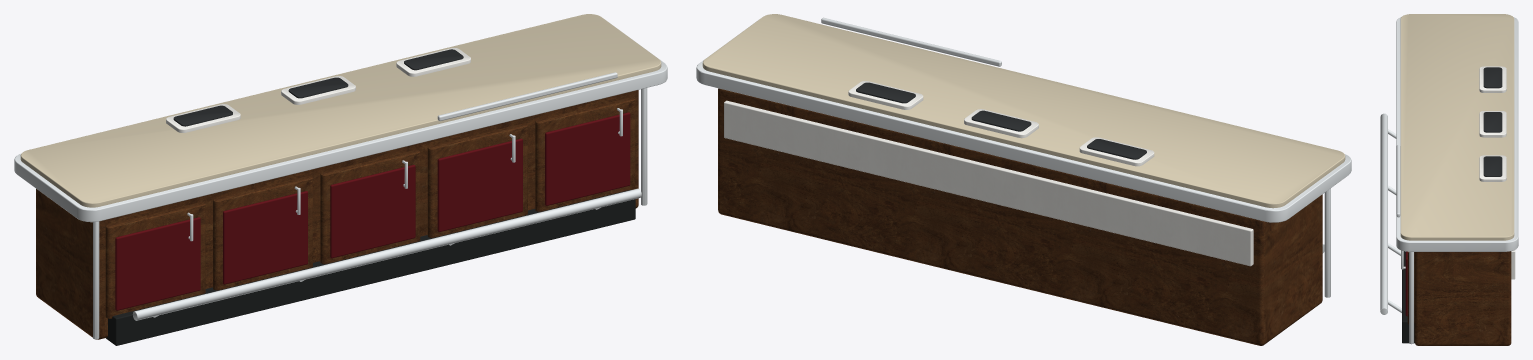
The model's file is diner_service_counter.glb.
3 views of the same model, side by side, from view 1: azimuth 30°, elevation 25°; view 2: azimuth 150°, elevation 25°; view 3: azimuth 270°, elevation 25° (orthographic). The views are drawn at different scales.
Parts seen in each view (by area): view 1: diner_service_counter_ss_cream_formica_pbr, diner_service_counter_ss_dark_red_vinyl_pbr, diner_service_counter_ss_period_wood_laminate_pbr, diner_service_counter_ss_polished_chrome, diner_service_counter_ss_black_rubber, diner_service_counter_ss_stainless_pbr, diner_service_counter_ss_control_black; view 2: diner_service_counter_ss_period_wood_laminate_pbr, diner_service_counter_ss_cream_formica_pbr, diner_service_counter_ss_stainless_pbr, diner_service_counter_ss_polished_chrome, diner_service_counter_ss_control_black; view 3: diner_service_counter_ss_cream_formica_pbr, diner_service_counter_ss_period_wood_laminate_pbr, diner_service_counter_ss_polished_chrome, diner_service_counter_ss_stainless_pbr, diner_service_counter_ss_control_black, diner_service_counter_ss_black_rubber, diner_service_counter_ss_dark_red_vinyl_pbr.
Boxes of the visible parts, x1,y1,x2,y2 form: diner_service_counter_ss_cream_formica_pbr: (20,14,661,207); diner_service_counter_ss_dark_red_vinyl_pbr: (115,112,630,310); diner_service_counter_ss_period_wood_laminate_pbr: (36,90,638,339); diner_service_counter_ss_polished_chrome: (14,22,667,339); diner_service_counter_ss_black_rubber: (106,189,635,345); diner_service_counter_ss_stainless_pbr: (166,47,470,132); diner_service_counter_ss_control_black: (173,49,463,126); diner_service_counter_ss_period_wood_laminate_pbr: (718,88,1322,345); diner_service_counter_ss_cream_formica_pbr: (702,14,1345,208); diner_service_counter_ss_stainless_pbr: (724,81,1253,266); diner_service_counter_ss_polished_chrome: (696,17,1351,297); diner_service_counter_ss_control_black: (856,82,1146,159); diner_service_counter_ss_cream_formica_pbr: (1400,14,1514,240); diner_service_counter_ss_period_wood_laminate_pbr: (1407,251,1511,345); diner_service_counter_ss_polished_chrome: (1380,17,1518,344); diner_service_counter_ss_stainless_pbr: (1479,66,1515,279); diner_service_counter_ss_control_black: (1483,67,1502,176); diner_service_counter_ss_black_rubber: (1402,251,1414,343); diner_service_counter_ss_dark_red_vinyl_pbr: (1405,251,1407,316).
Bounding box in the file's own units: 3.78 × 0.946 × 0.972.
7 materials, 2 textured.
